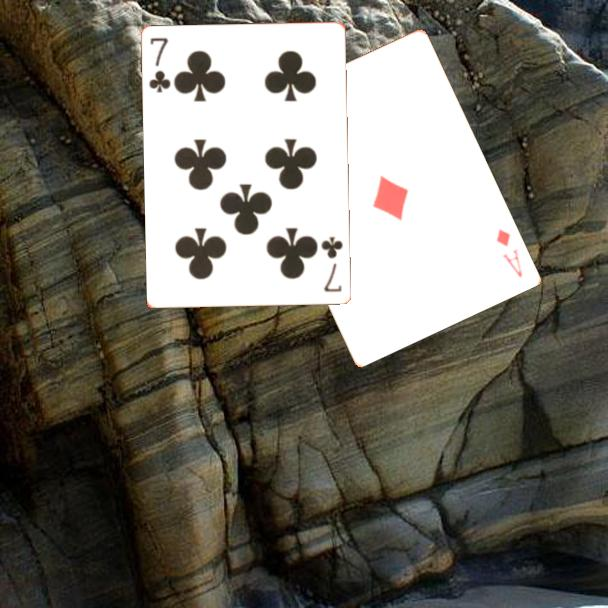c07: (318, 233, 346, 295), (146, 34, 174, 96)
d01: (492, 225, 525, 280)
